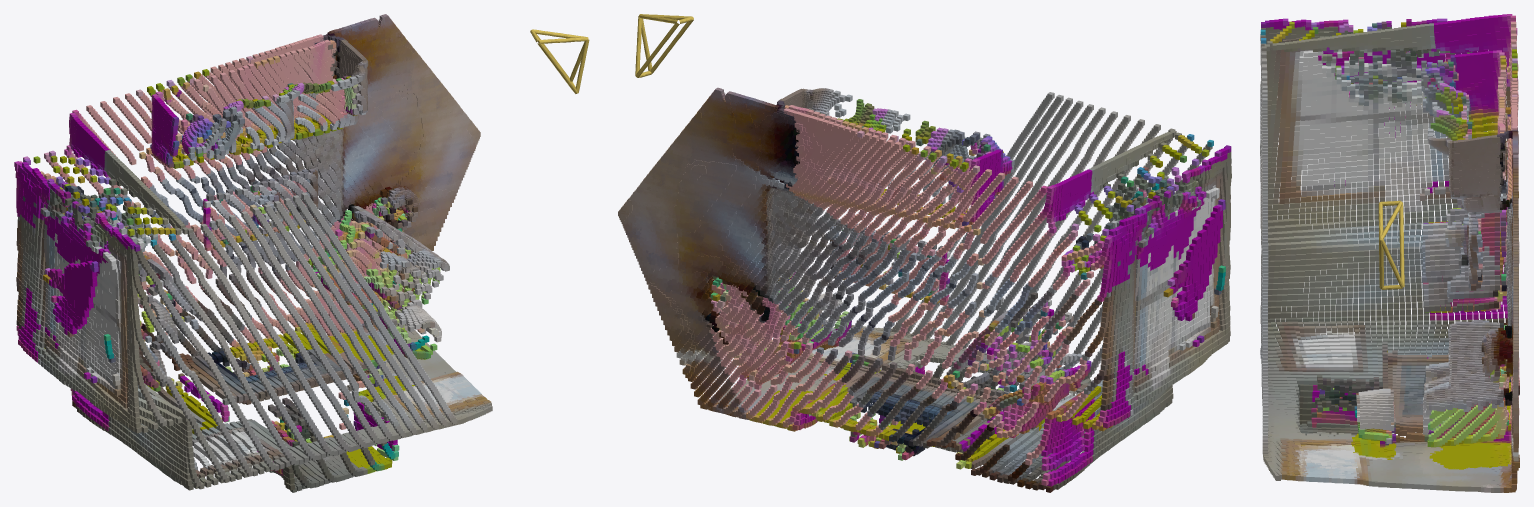
The picture shows the model from 3 angles, left to right: view 1: azimuth 30°, elevation 25°; view 2: azimuth 150°, elevation 25°; view 3: azimuth 270°, elevation 25°; orthographic projection. The views are drawn at different scales.
Bounding box in the file's own units: 6.06 × 3.92 × 2.45.
